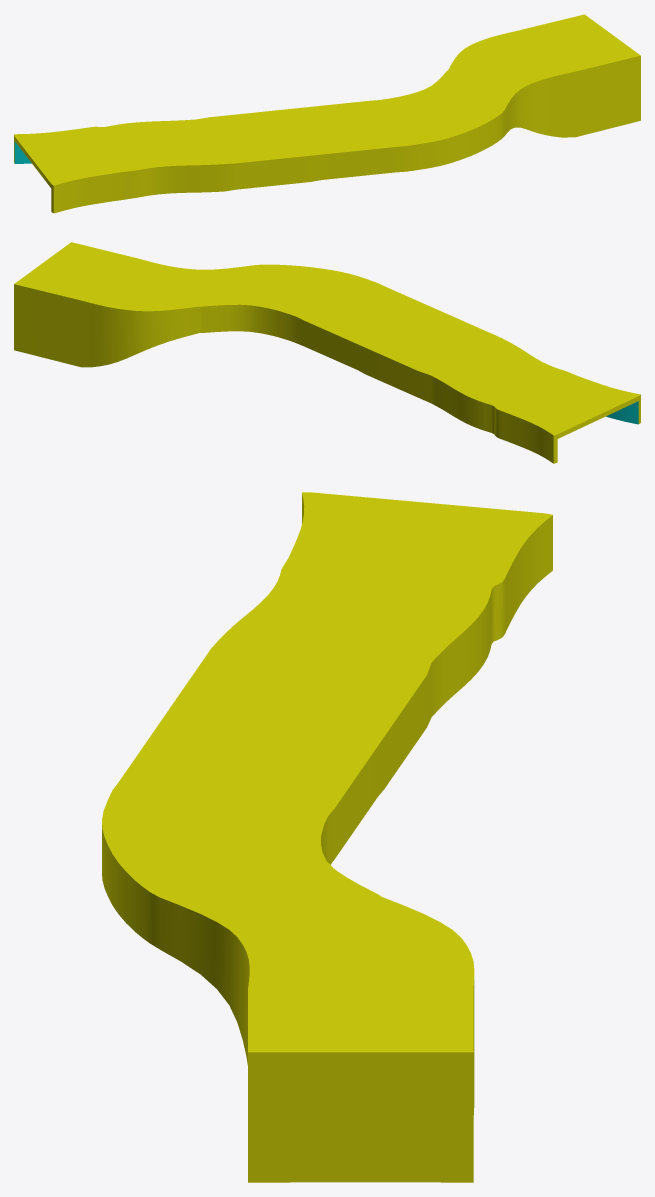
The model's file is Entrance_Roof_Type_8.fbx.
3 renders of one model, top to bottom at view 1: azimuth 30°, elevation 25°; view 2: azimuth 150°, elevation 25°; view 3: azimuth 270°, elevation 25°, orthographic. The views are drawn at different scales.
Parts seen in each view (by area): view 1: Entrance_Roof_Type_8; view 2: Entrance_Roof_Type_8; view 3: Entrance_Roof_Type_8.
Part boxes in pixels (x1,y1,x2,y2): Entrance_Roof_Type_8: (14, 14, 640, 213); Entrance_Roof_Type_8: (14, 242, 640, 463); Entrance_Roof_Type_8: (102, 492, 552, 1182).
Size of the model in its own units: 3714 by 407 by 1265.
